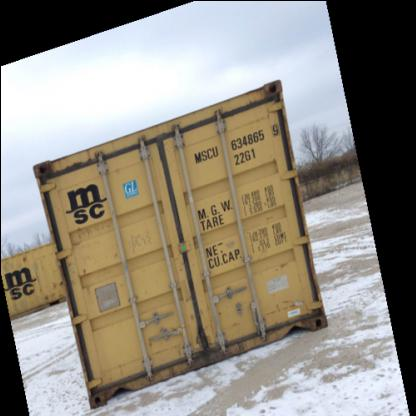Damage: (218, 317, 292, 355), (223, 76, 282, 119), (22, 152, 112, 176), (183, 298, 216, 360)
